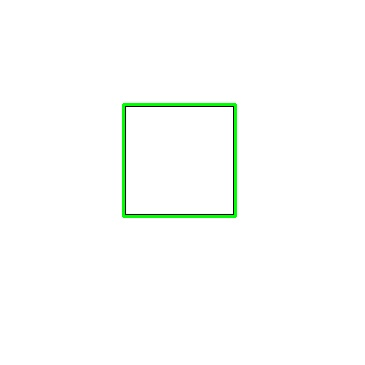line_segment: (122, 103, 237, 218)
